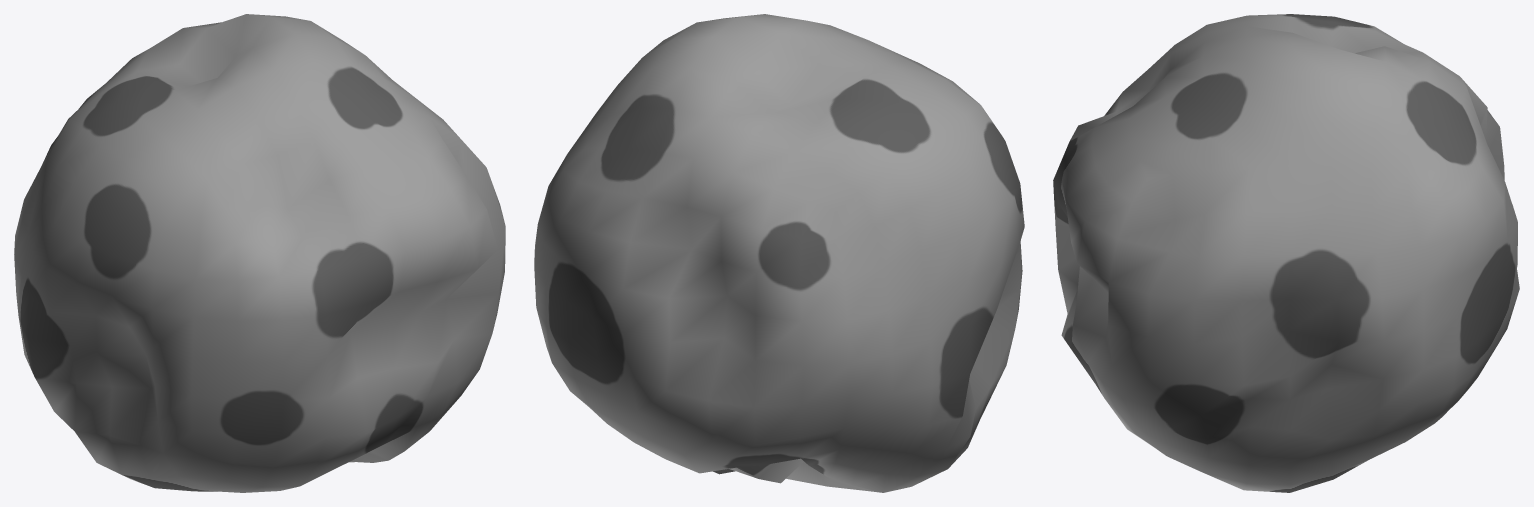
File: LargeAsteroid.fbx
3 renders of one model, left to right at view 1: azimuth 30°, elevation 25°; view 2: azimuth 150°, elevation 25°; view 3: azimuth 270°, elevation 25°, orthographic. The views are drawn at different scales.
Parts seen in each view (by area): view 1: pCube1; view 2: pCube1; view 3: pCube1.
Part boxes in pixels (bbox=[...]): pCube1: bbox=[14, 14, 505, 492]; pCube1: bbox=[534, 14, 1024, 492]; pCube1: bbox=[1053, 14, 1519, 492].
Size of the model in its own units: 0.6356 by 0.6413 by 0.6275.
